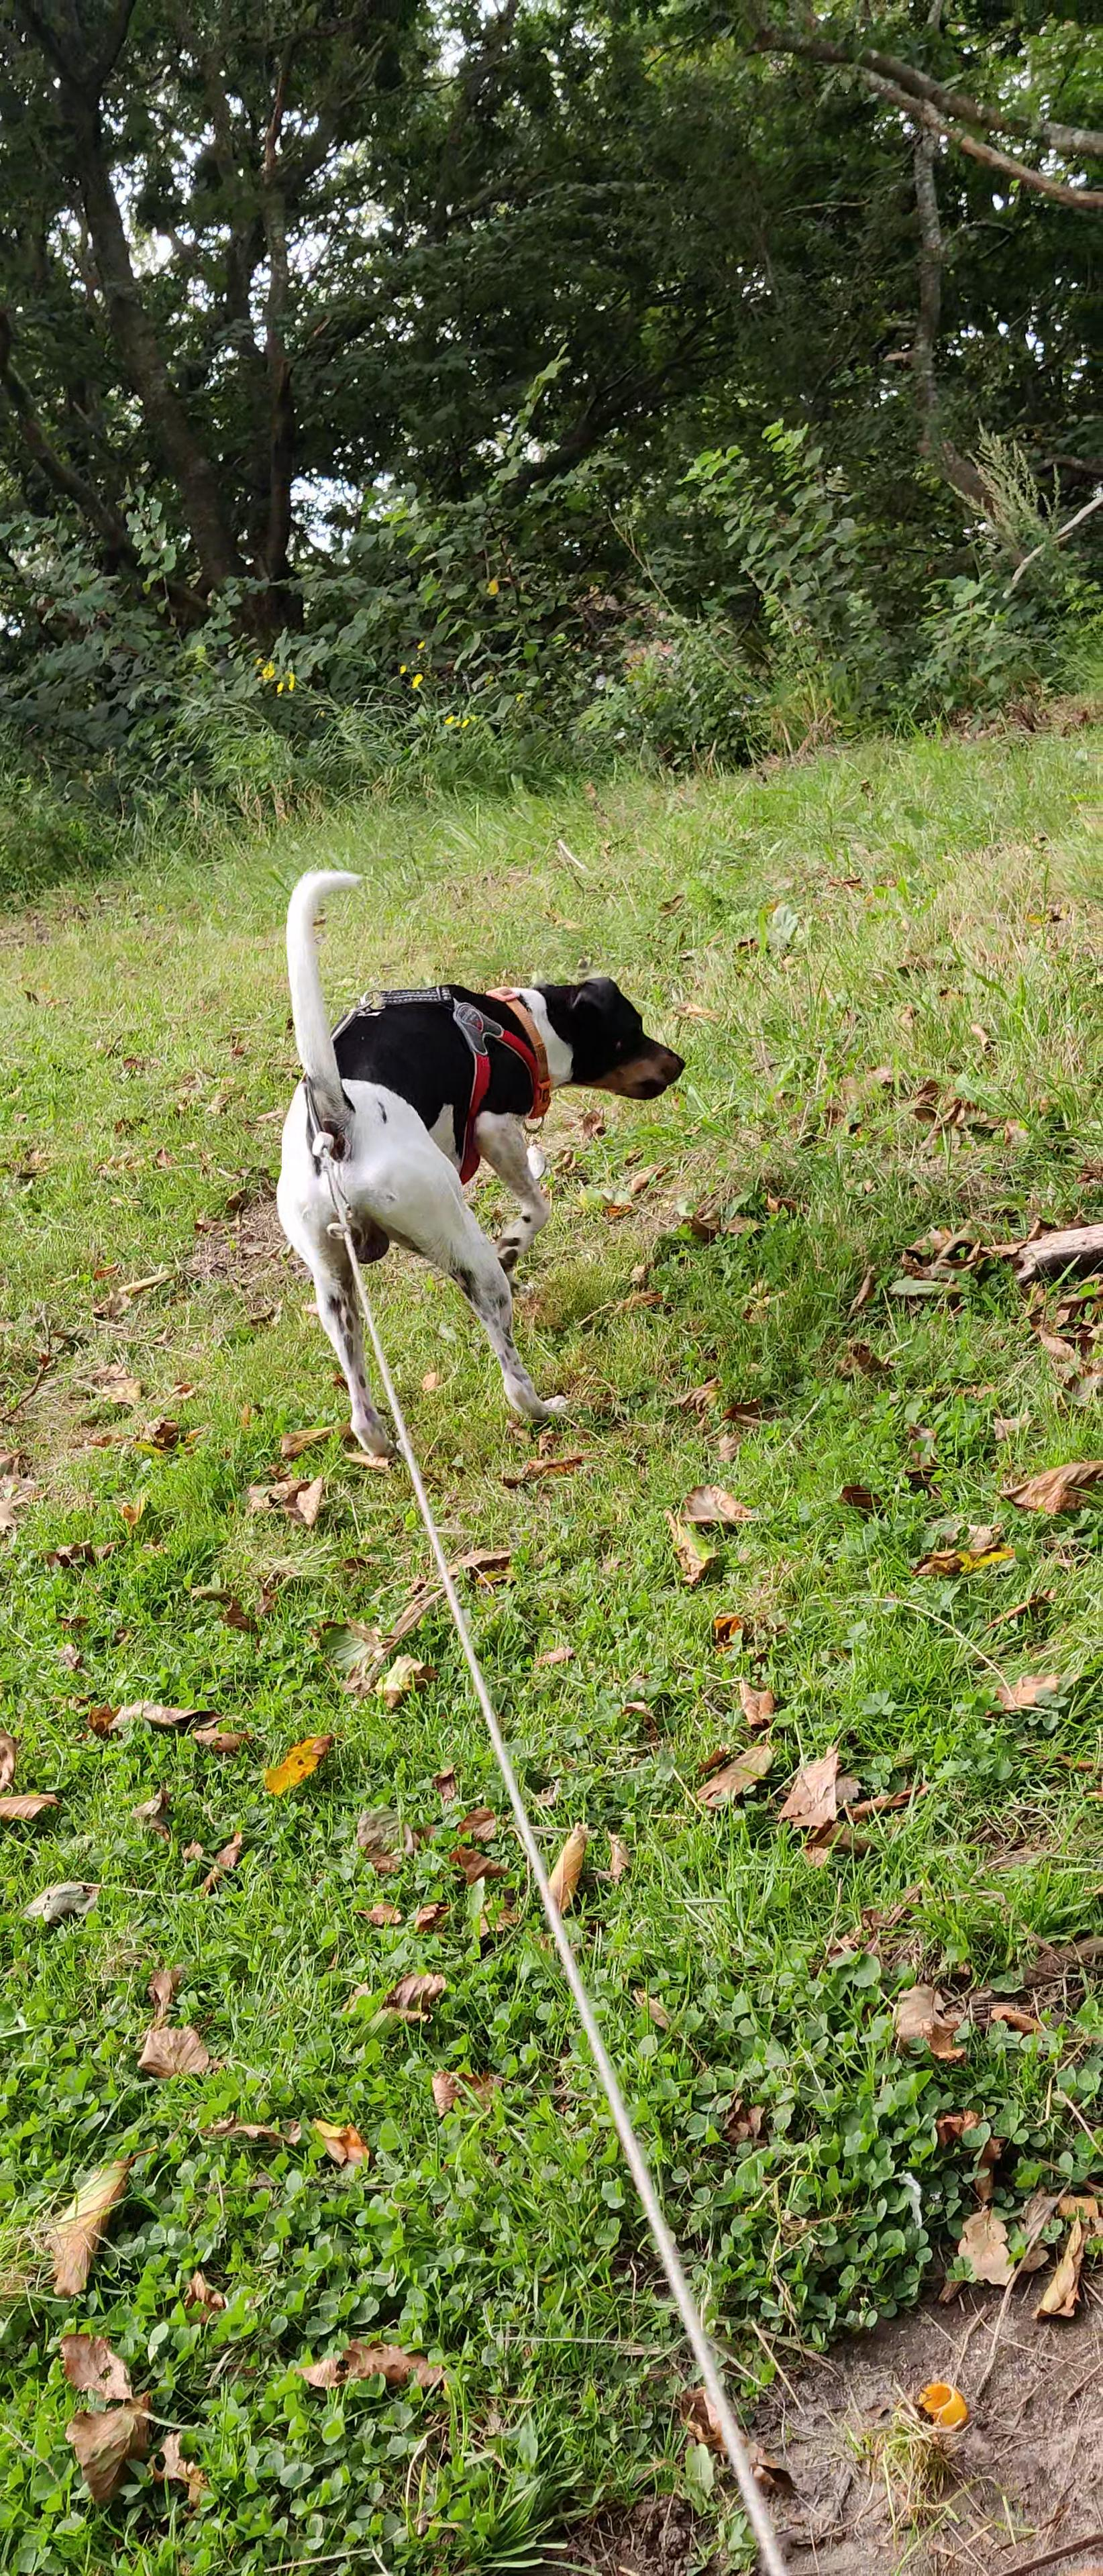Dog: (248, 836, 702, 1492)
